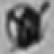not correct: (5, 0, 52, 52)
